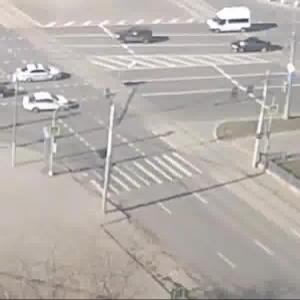car: (19, 90, 91, 117), (116, 19, 167, 48), (216, 5, 263, 32), (14, 61, 69, 84), (231, 34, 276, 55)
